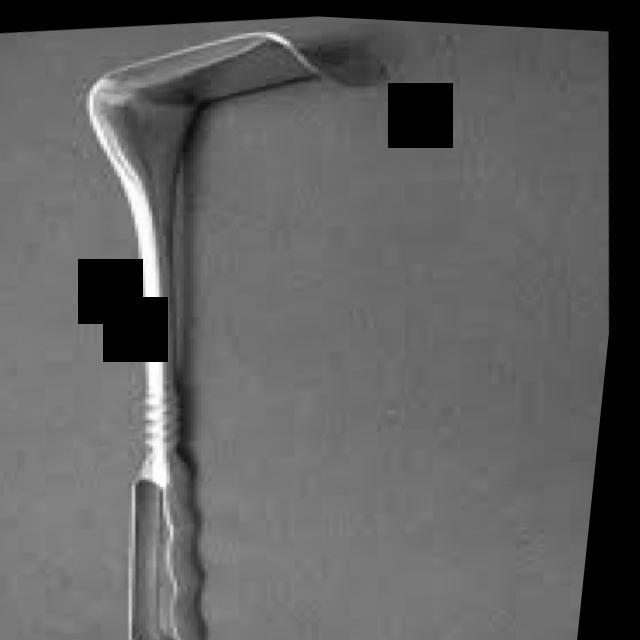Kelly Retractor: (27, 9, 404, 640)
